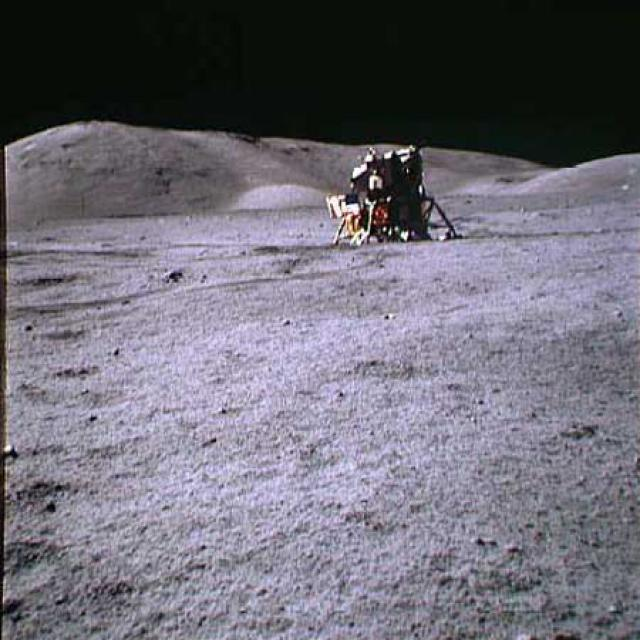artifact: (320, 142, 464, 245)
crater: (333, 300, 421, 320)
rock: (160, 266, 182, 282), (4, 440, 19, 460)
